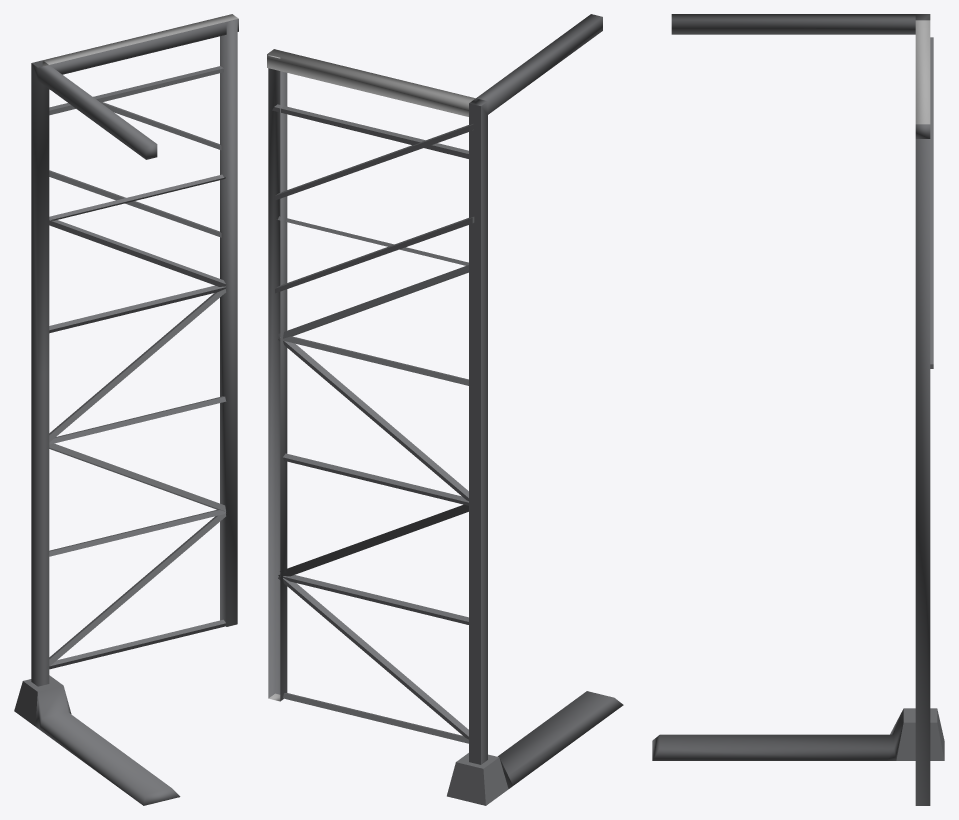
File: platCaixa.fbx
The picture shows the model from 3 angles, left to right: view 1: azimuth 30°, elevation 25°; view 2: azimuth 150°, elevation 25°; view 3: azimuth 270°, elevation 25°; orthographic projection. The views are drawn at different scales.
Visible parts, largest first — view 1: watchtowerHigh_001; view 2: watchtowerHigh_001; view 3: watchtowerHigh_001.
Part boxes in pixels (x1,y1,x2,y2): watchtowerHigh_001: (14, 14, 238, 805); watchtowerHigh_001: (267, 14, 623, 805); watchtowerHigh_001: (652, 14, 944, 805).
Bounding box in the file's own units: 2.59 × 7.59 × 2.74.
